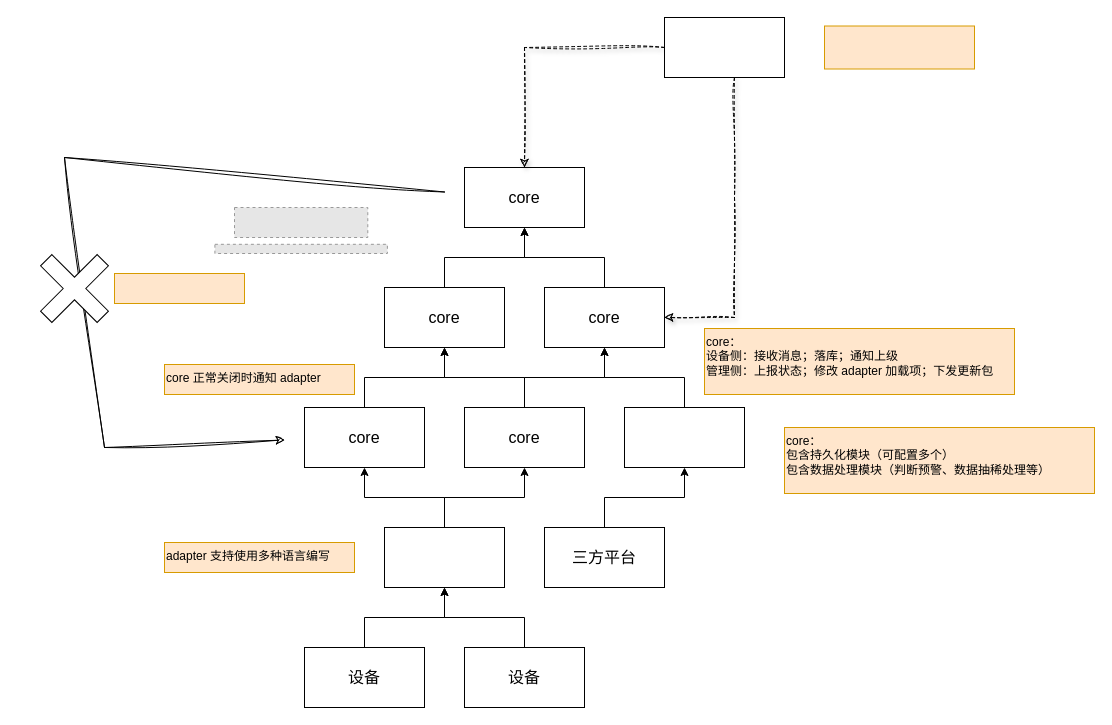
This 1112x725 diagram has some shape labels left out. Grey dashed boxes stand in for pictures. Each missing label, with the centre of its shape:
"core 不支持递归级联" belongs at point 179,288.
"Manager" belongs at point 724,47.
"manager： 支持管理多台 core 实例" belongs at point 899,47.
"MQTT a dapter" belongs at point 444,557.
"Webscoket a dapter" belongs at point 684,437.
